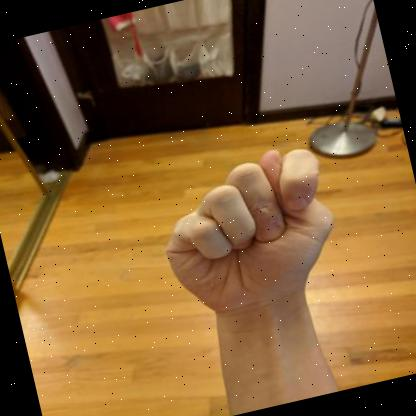T: (165, 149, 334, 319)
